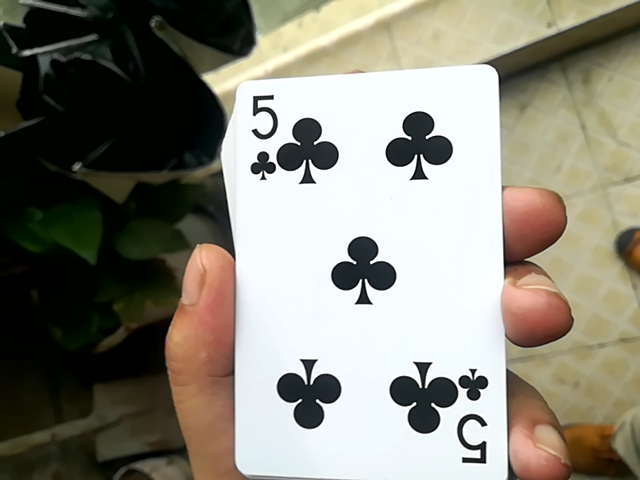mh 5: (214, 58, 508, 479)
